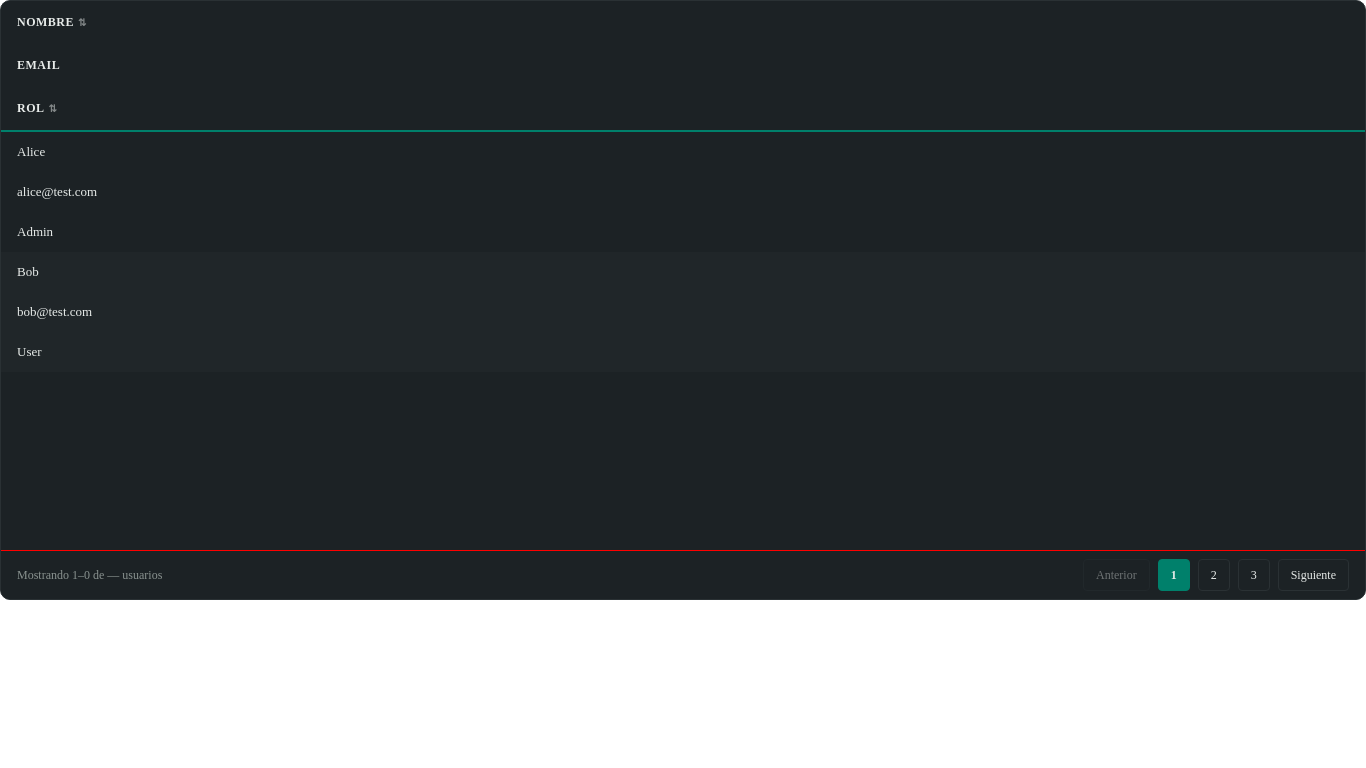
it: Table › navigates pages
Expected: the text "Alice" is shown, [17,144,45,159]
Expected: the text "Bob" is shown, [17,264,39,279]
Click the button "2" at (1214, 575), box [1198,559,1230,591]
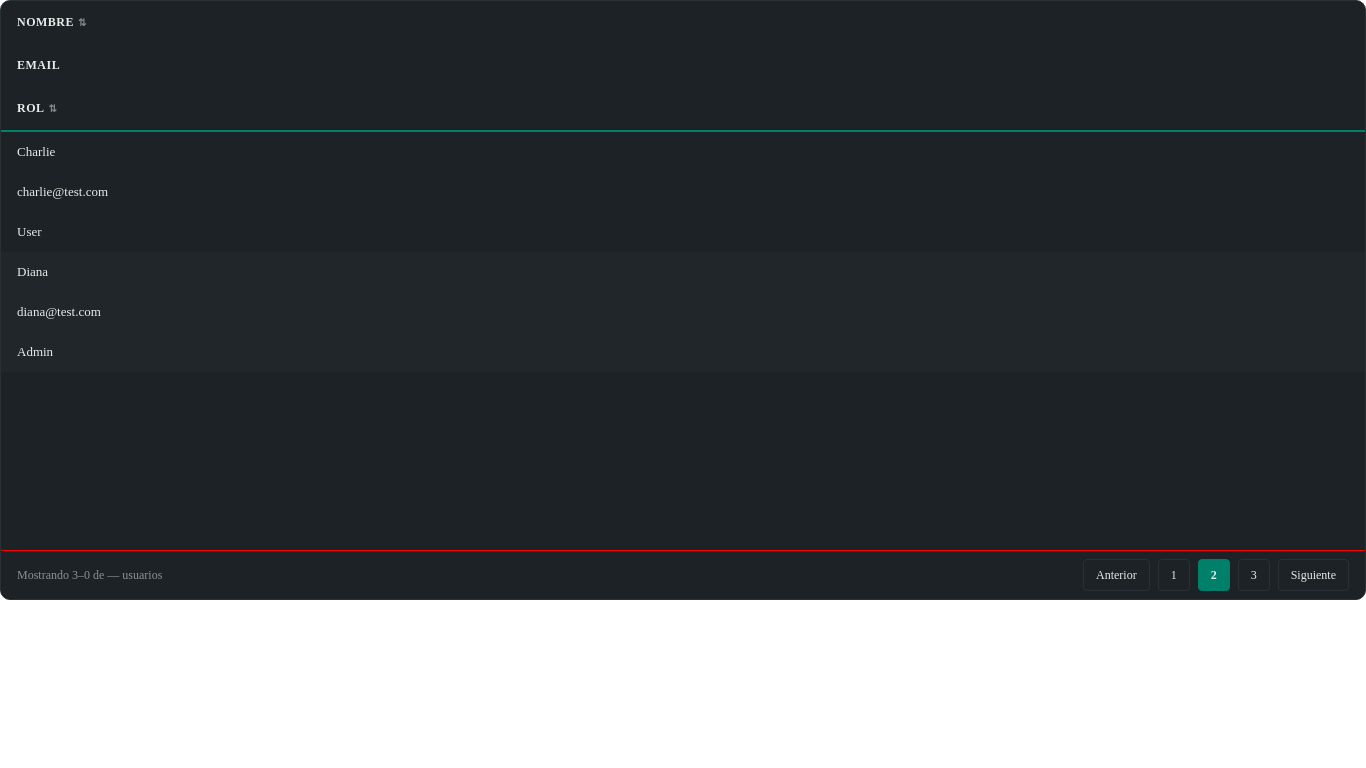
Expected: the text "Charlie" is shown, [17,144,55,159]
Expected: the text "Diana" is shown, [17,264,48,279]
